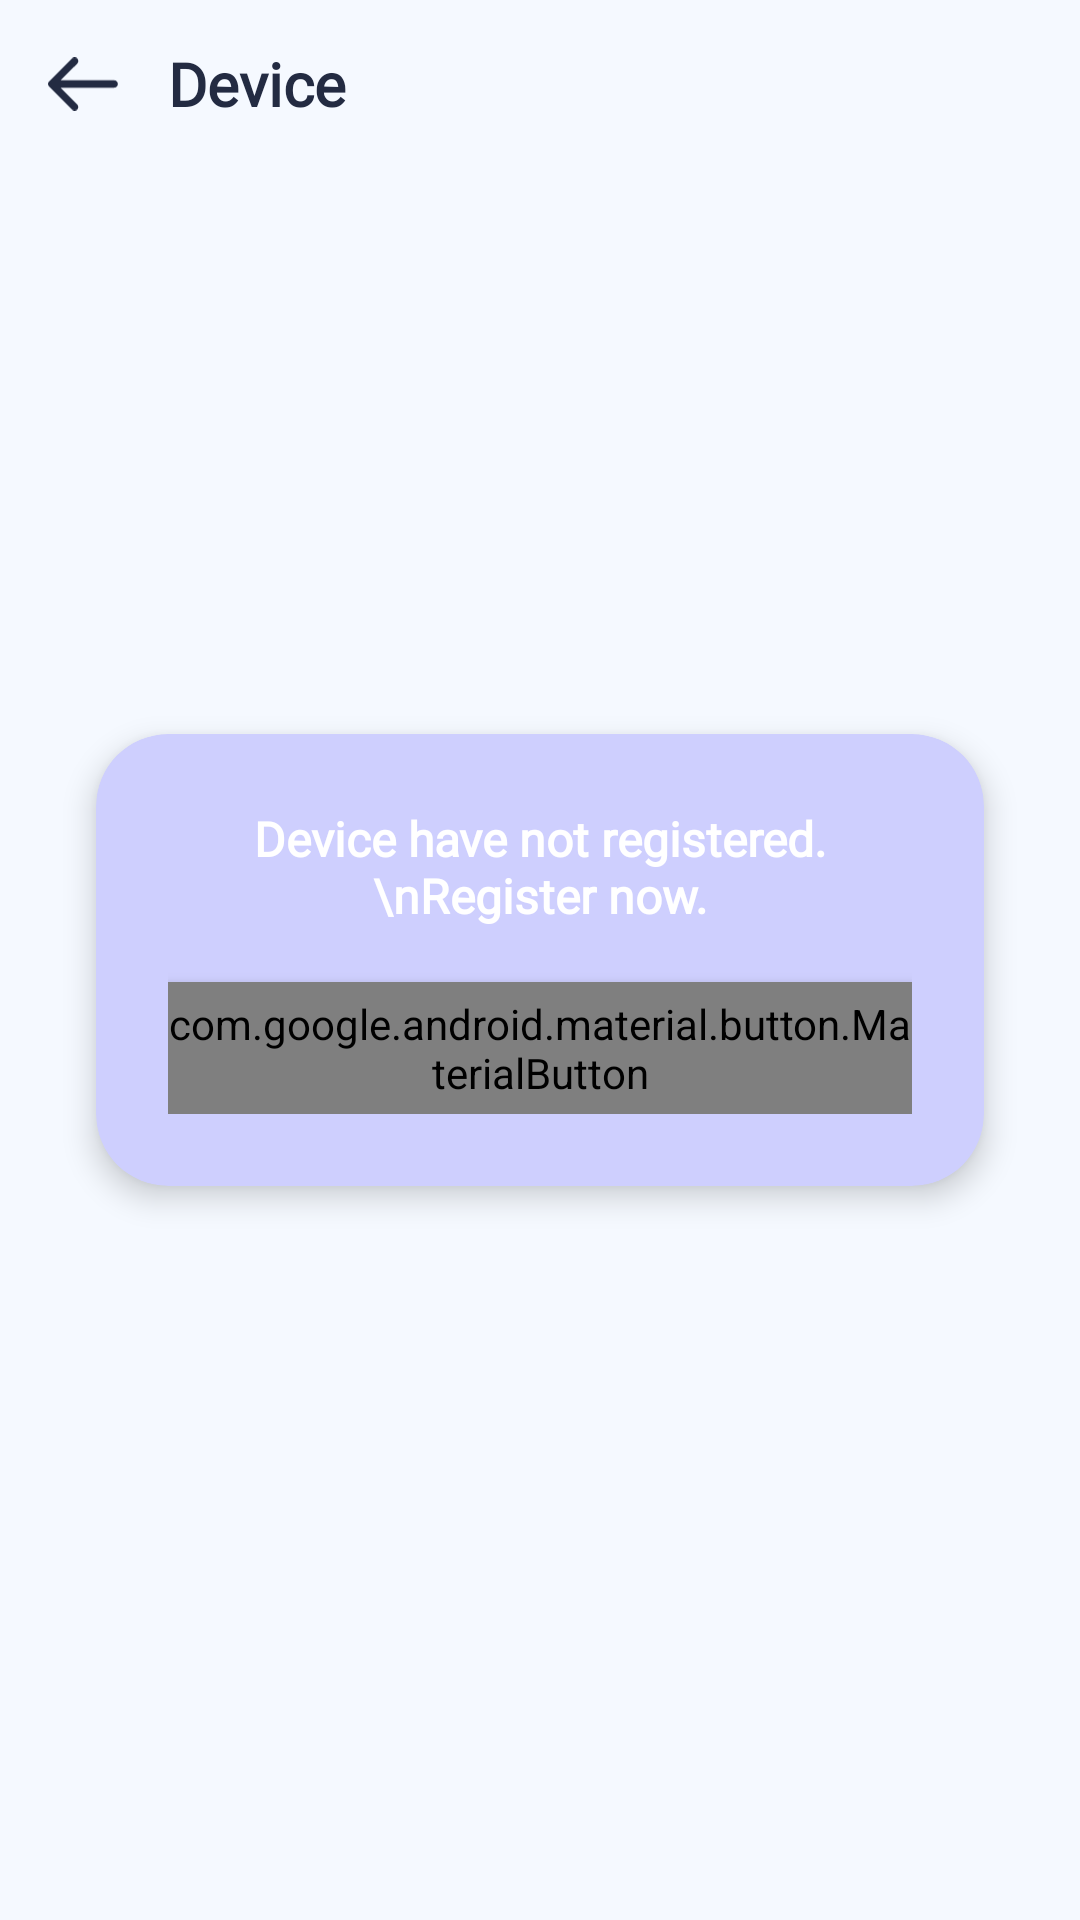

Point at icon controls on the screen. Image size 1080px×1920px, points as [x,y].
Back: [83,84]
